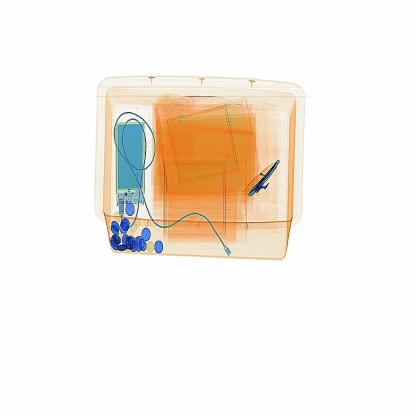pliers: (240, 154, 287, 211)
